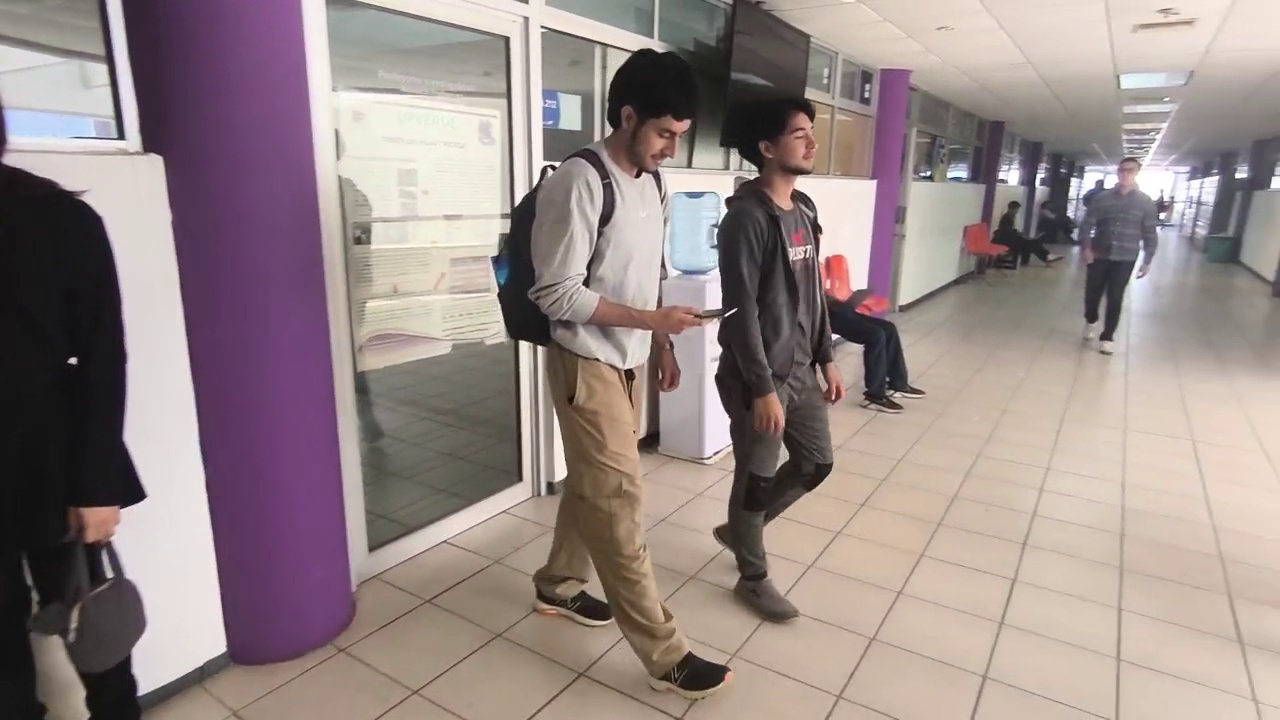mixto2: (688, 303, 742, 323)
